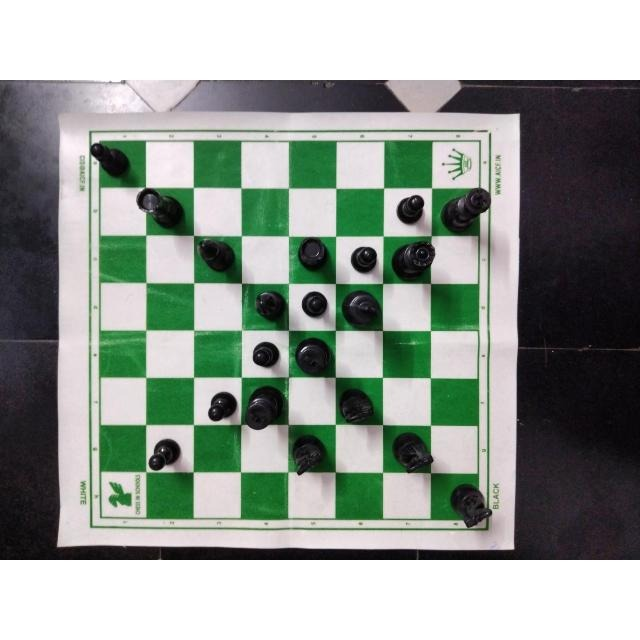black-bishop: (193, 238, 237, 274), (254, 291, 288, 323)
black-king: (438, 188, 494, 235), (243, 385, 290, 431), (340, 288, 384, 329), (293, 335, 333, 377)
black-knight: (447, 481, 495, 531), (390, 431, 433, 477), (338, 385, 381, 425), (292, 433, 328, 477)
black-pawn: (88, 138, 132, 178), (146, 435, 186, 473), (393, 192, 426, 226), (206, 390, 239, 424), (248, 338, 284, 369), (349, 244, 381, 276), (295, 290, 329, 318)
black-queen: (392, 240, 436, 285)
black-rook: (135, 185, 187, 231), (296, 234, 330, 271)
